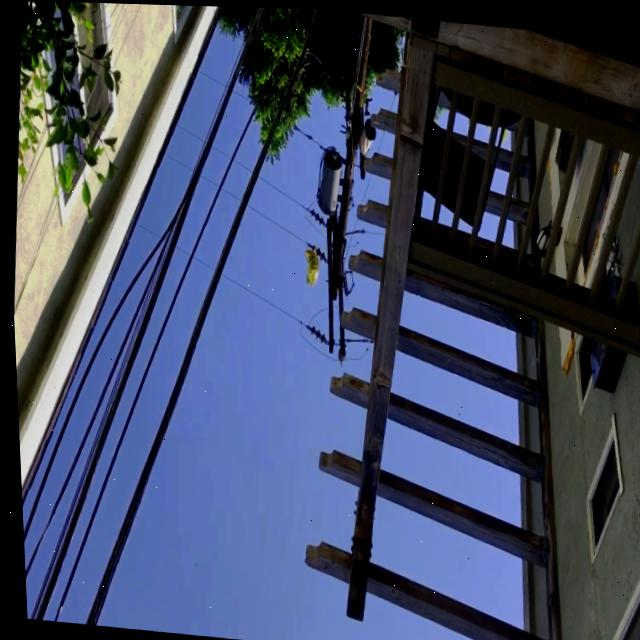obstruction: (303, 243, 318, 284)
poles: (315, 15, 374, 349), (335, 318, 342, 359)
wires: (219, 273, 333, 359), (246, 206, 323, 262), (257, 176, 324, 231), (289, 124, 327, 148), (342, 336, 366, 359), (165, 154, 190, 169), (135, 222, 159, 237), (199, 68, 219, 83), (233, 88, 251, 104), (193, 256, 212, 269), (178, 125, 197, 138), (198, 173, 215, 186), (345, 226, 368, 234), (220, 188, 236, 199), (232, 159, 247, 170), (211, 148, 227, 157), (174, 244, 187, 253)
